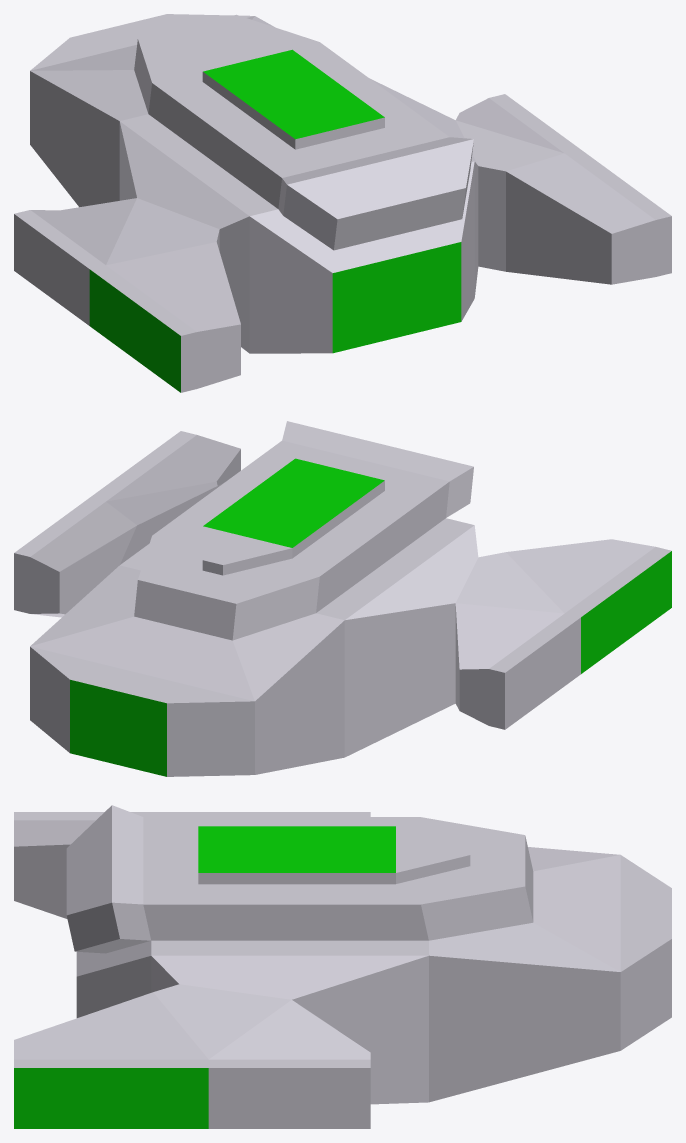
File: Stub Wing.fbx
The picture shows the model from 3 angles, top to bottom: view 1: azimuth 30°, elevation 25°; view 2: azimuth 150°, elevation 25°; view 3: azimuth 270°, elevation 25°; orthographic projection. The views are drawn at different scales.
Parts seen in each view (by area): view 1: Stub Wing; view 2: Stub Wing; view 3: Stub Wing.
Boxes of the visible parts, <box> form: Stub Wing: <box>14,14,671,392</box>; Stub Wing: <box>14,421,671,776</box>; Stub Wing: <box>14,805,671,1128</box>.
Bounding box in the file's own units: 4.36 × 1.54 × 4.74.
